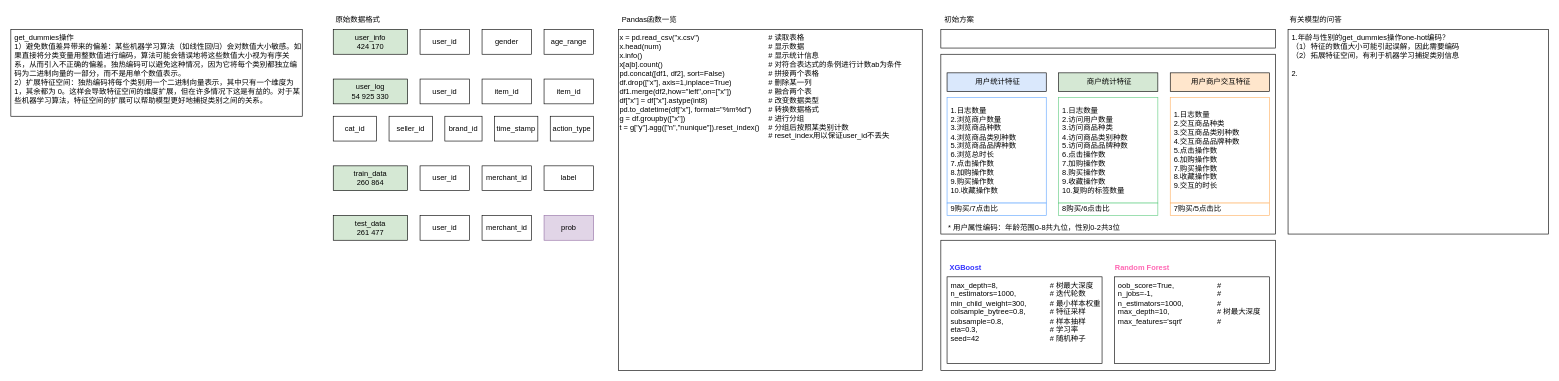
The diagram is 1559 pixels wide and 381 high, and some of its shapes have lost their labels. The box of each missing label's shape, as (x1, y1, x2, y2) in pixels:
1.数据预处理（info和log融合便于提取特征，train和test融合用于最后的训练预测， 处理缺失值 ）: (940, 29, 1276, 48)
2.提取特征: (940, 54, 1276, 234)
3.使用XGBoost/Random Forest进行回归预测: (940, 240, 1276, 370)
